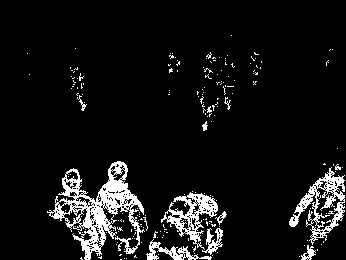person: (287, 163, 346, 259), (147, 189, 226, 260), (95, 159, 148, 260), (52, 166, 106, 260)
